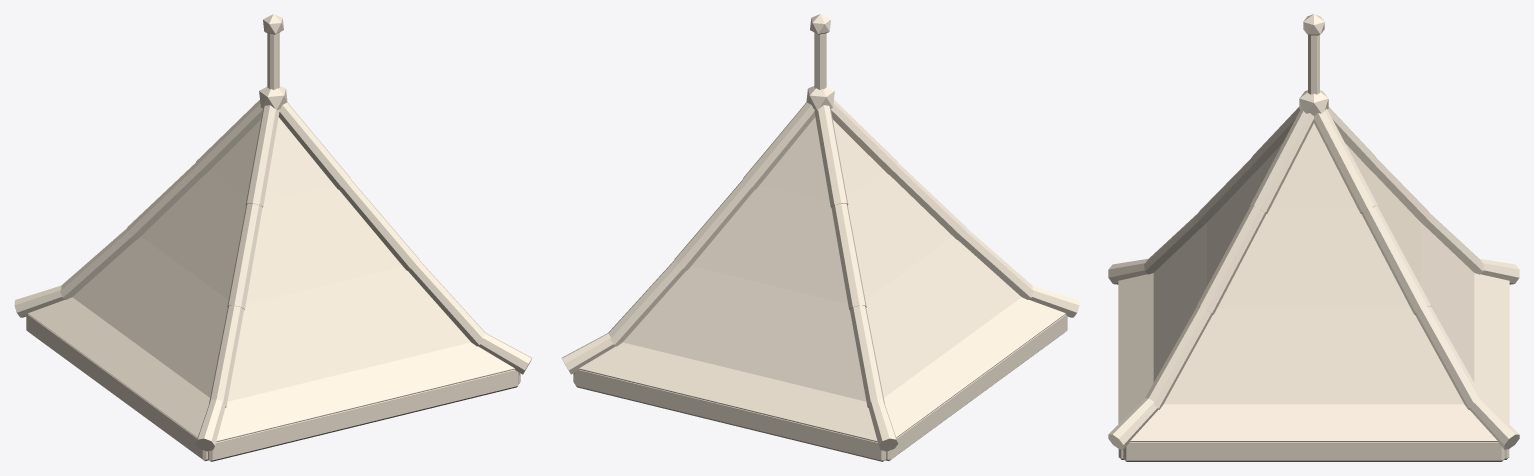
Rendered from SM_VK_Roof_Pyramid_6.fbx.
3 views of the same model, side by side, from view 1: azimuth 30°, elevation 25°; view 2: azimuth 150°, elevation 25°; view 3: azimuth 270°, elevation 25° (orthographic). The views are drawn at different scales.
Visible parts, largest first — view 1: SM_VK_Roof_Pyramid_6.001; view 2: SM_VK_Roof_Pyramid_6.001; view 3: SM_VK_Roof_Pyramid_6.001.
Boxes of the visible parts, <box> form: SM_VK_Roof_Pyramid_6.001: <box>14,14,532,461</box>; SM_VK_Roof_Pyramid_6.001: <box>561,14,1079,461</box>; SM_VK_Roof_Pyramid_6.001: <box>1108,14,1519,461</box>.
Bounding box in the file's own units: 4.21 × 4.14 × 4.21.
